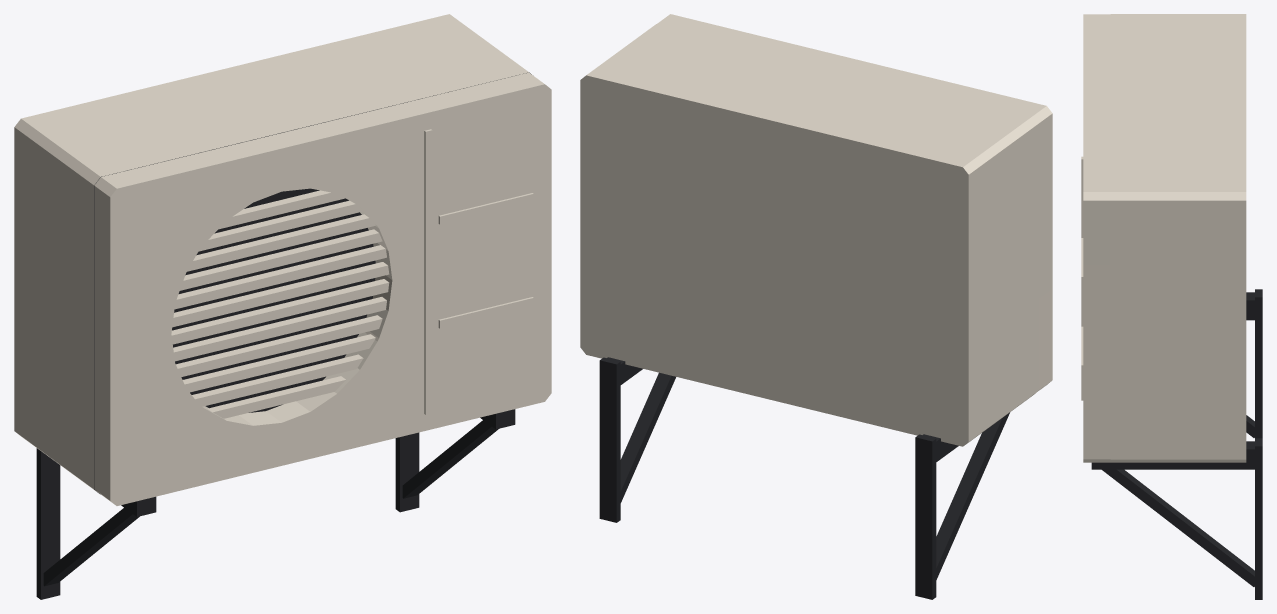
The model's file is SM_Wall_AcUnit_01.fbx.
3 views of the same model, side by side, from view 1: azimuth 30°, elevation 25°; view 2: azimuth 150°, elevation 25°; view 3: azimuth 270°, elevation 25° (orthographic). The views are drawn at different scales.
Visible parts, largest first — view 1: SM_Wall_AcUnit_01; view 2: SM_Wall_AcUnit_01; view 3: SM_Wall_AcUnit_01.
Boxes of the visible parts, box(x1,y1,x2,y2) form: SM_Wall_AcUnit_01: box(14, 14, 551, 599); SM_Wall_AcUnit_01: box(580, 14, 1052, 599); SM_Wall_AcUnit_01: box(1081, 14, 1262, 599).
Size of the model in its own units: 0.8 by 0.85 by 0.334.
1 material, 1 textured.
